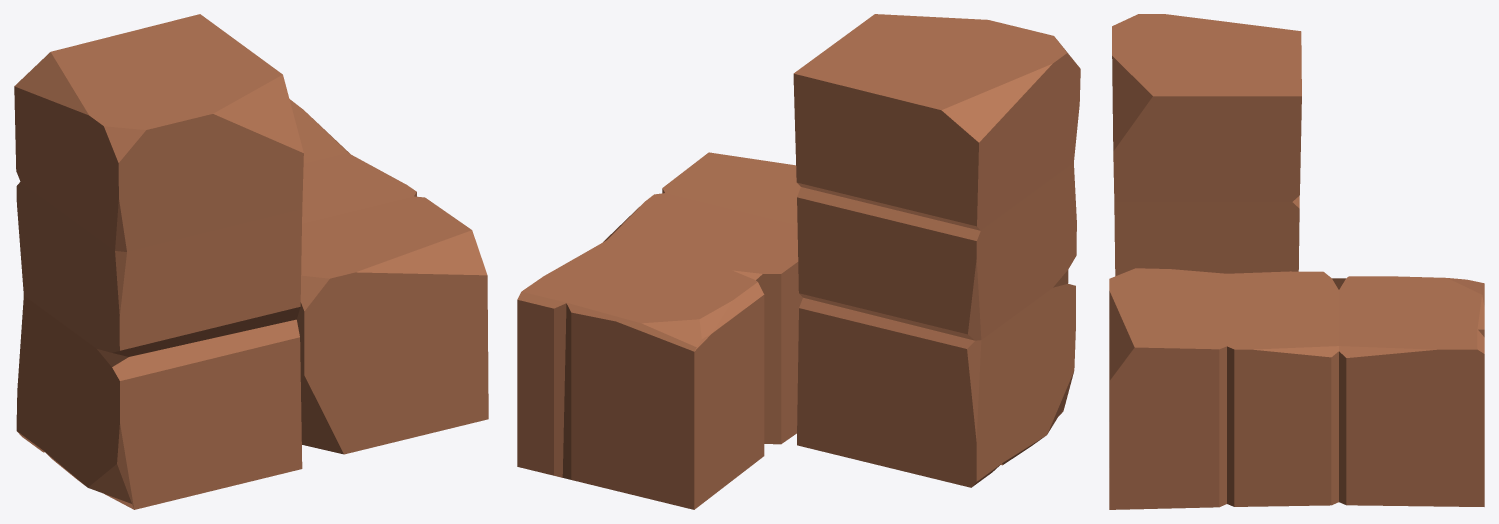
3 views of the same model, side by side, from view 1: azimuth 30°, elevation 25°; view 2: azimuth 150°, elevation 25°; view 3: azimuth 270°, elevation 25° (orthographic). The views are drawn at different scales.
Visible parts, largest first — view 1: Cube.021; view 2: Cube.021; view 3: Cube.021.
Boxes of the visible parts, x1=… form: Cube.021: x1=14, y1=14, x2=488, y2=509; Cube.021: x1=517, y1=14, x2=1080, y2=509; Cube.021: x1=1109, y1=14, x2=1484, y2=509.
Size of the model in its own units: 201 by 197 by 197.
